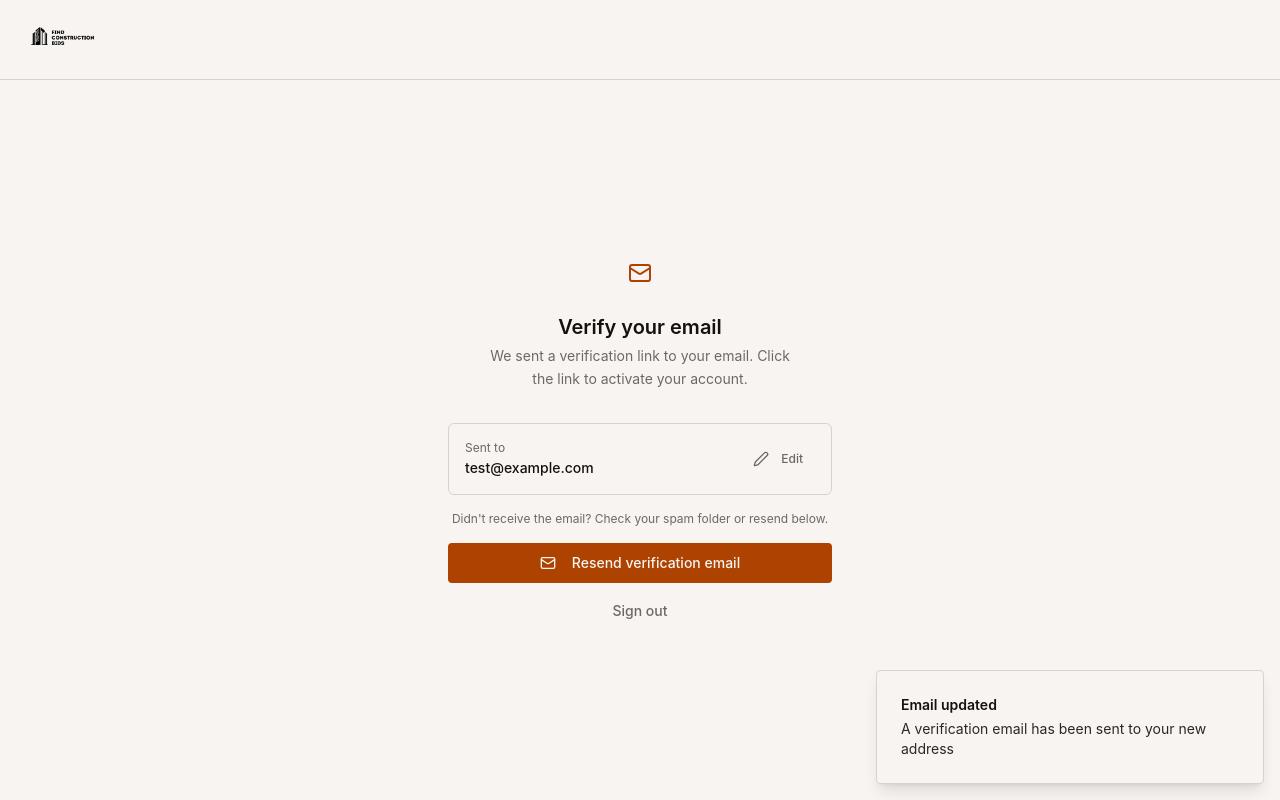
Test: EmailVerificationPendingPage › edit email flow › hides the edit form after successful email update
The image size is (1280, 800).
Click the button with test id "button-edit-email". click: (778, 459)
box: [741, 441, 815, 477]
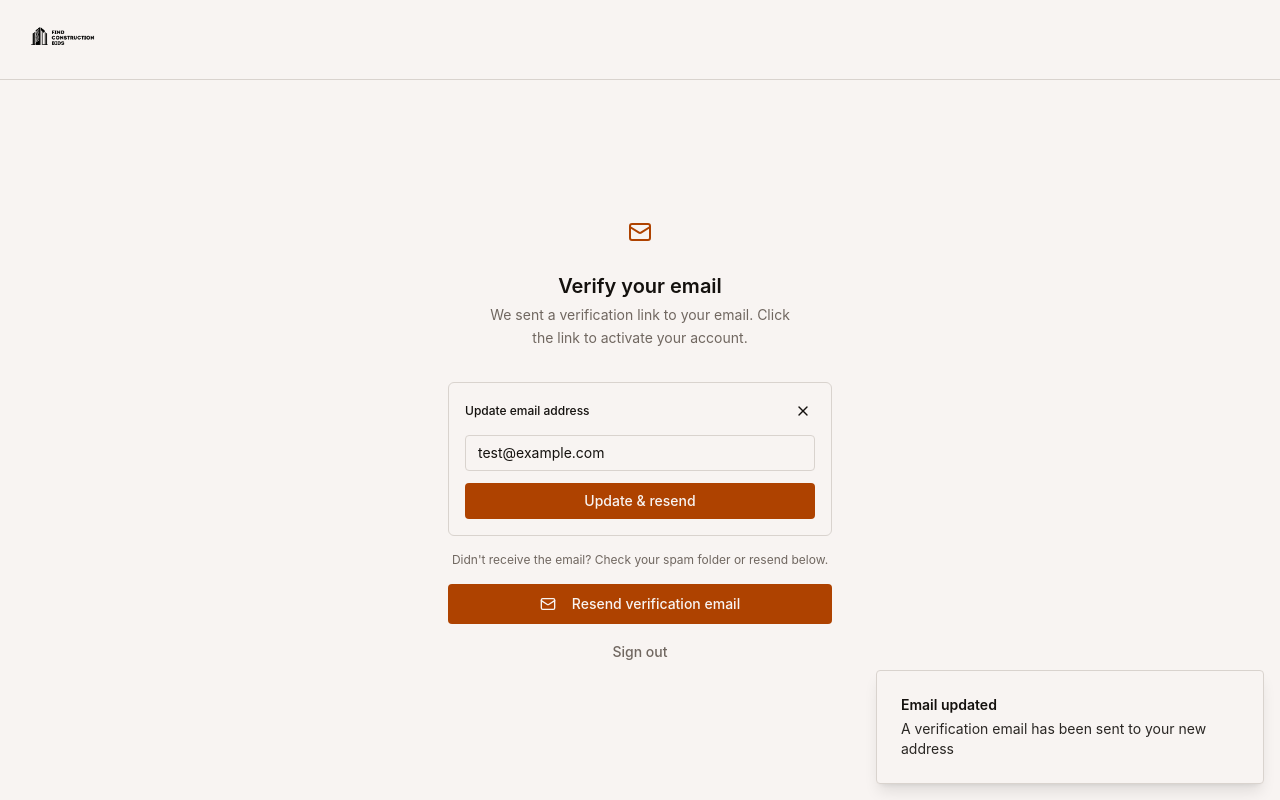
Replace the text in the field with test id "input-new-email" with "new@example.com". click: (640, 453)
box: [465, 435, 815, 471]
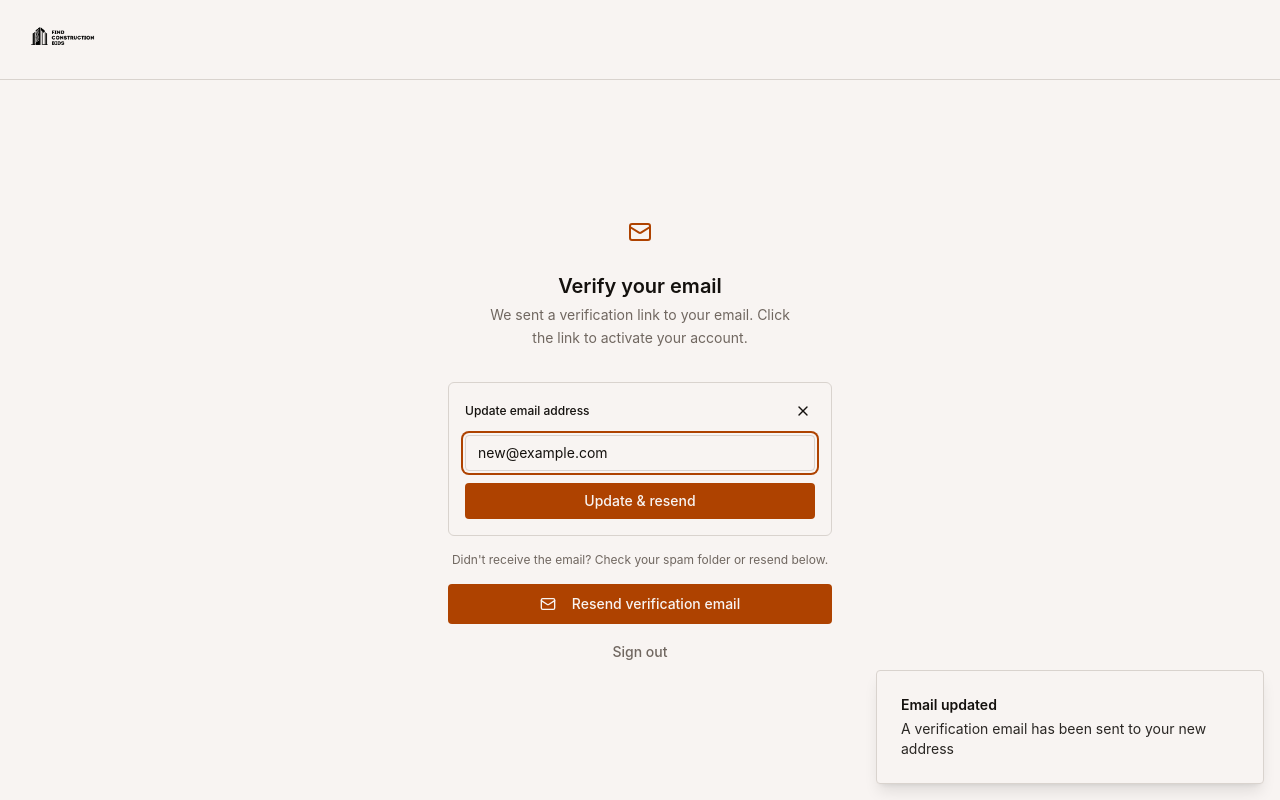
Click the button with test id "button-update-email". click: (640, 501)
box: [465, 483, 815, 519]
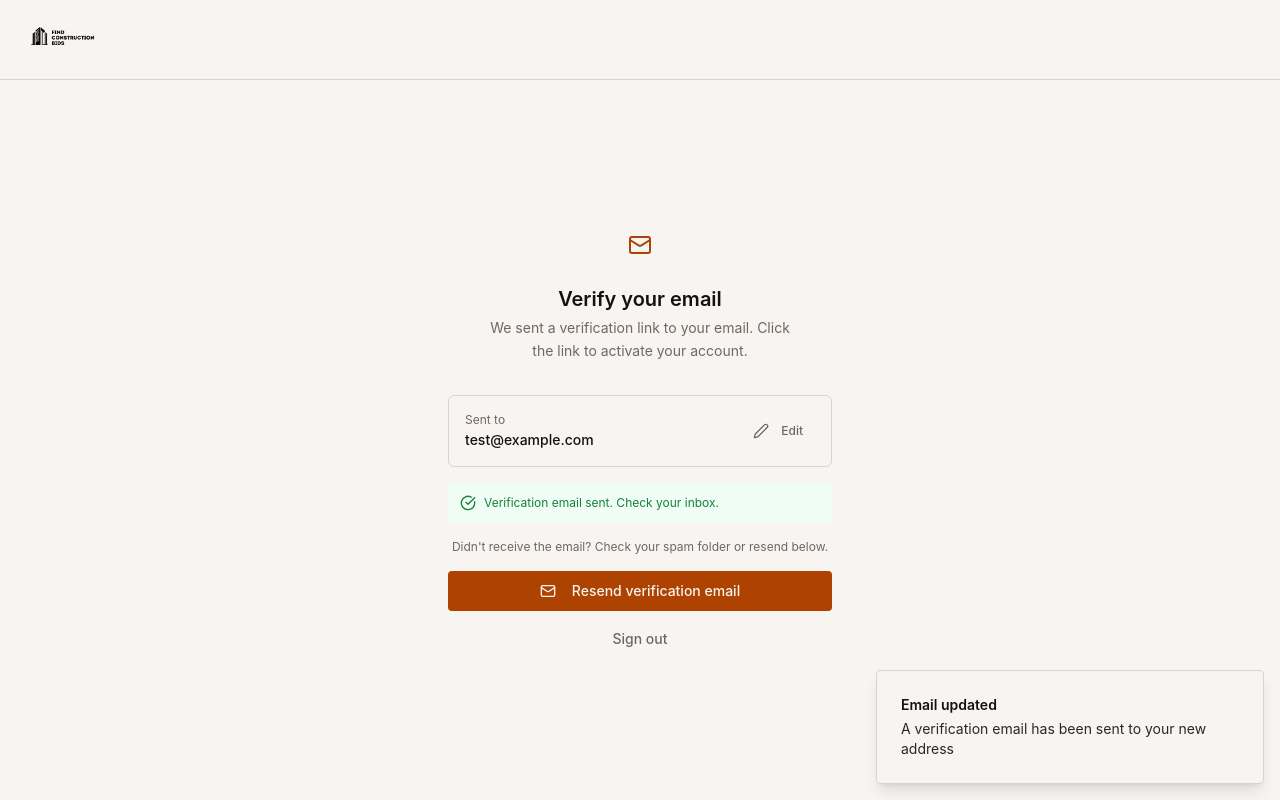
Now the field with test id "input-new-email" is gone
